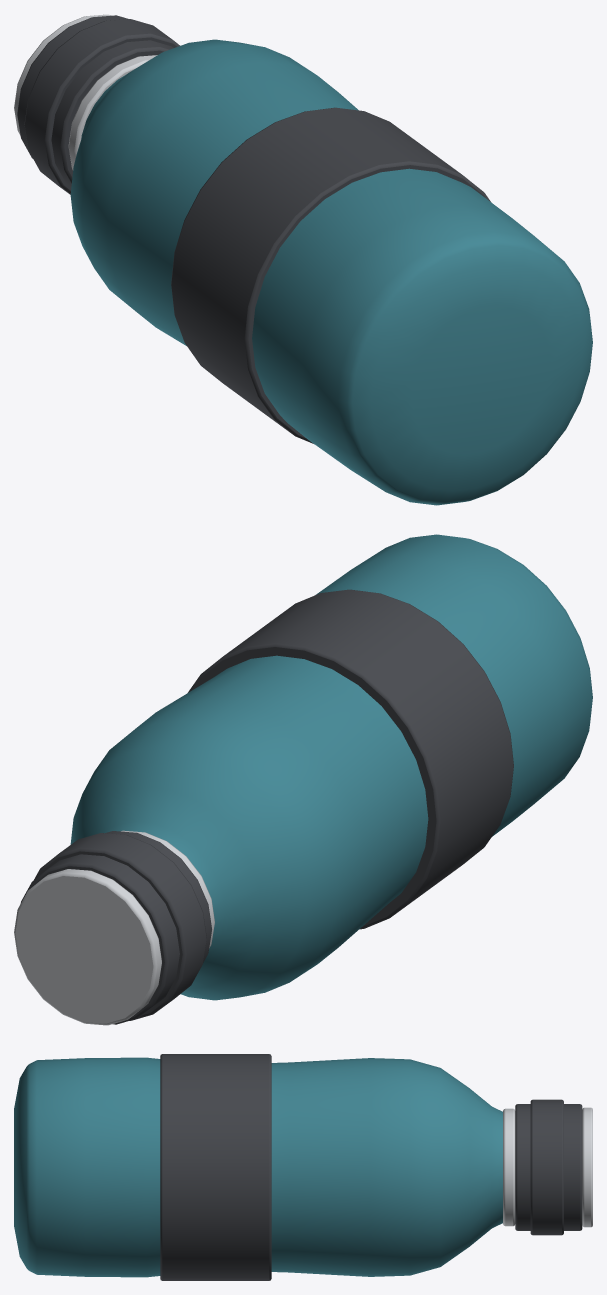
Rendered from water_bottle.glb.
The picture shows the model from 3 angles, top to bottom: view 1: azimuth 30°, elevation 25°; view 2: azimuth 150°, elevation 25°; view 3: azimuth 270°, elevation 25°; orthographic projection. The views are drawn at different scales.
Visible parts, largest first — view 1: WaterBottle; view 2: WaterBottle; view 3: WaterBottle.
Part boxes in pixels (box(x1,y1,x2,y2)): WaterBottle: box(14, 14, 592, 505); WaterBottle: box(14, 534, 592, 1025); WaterBottle: box(14, 1054, 592, 1280).
Size of the model in its own units: 0.0745 by 0.0745 by 0.19.
